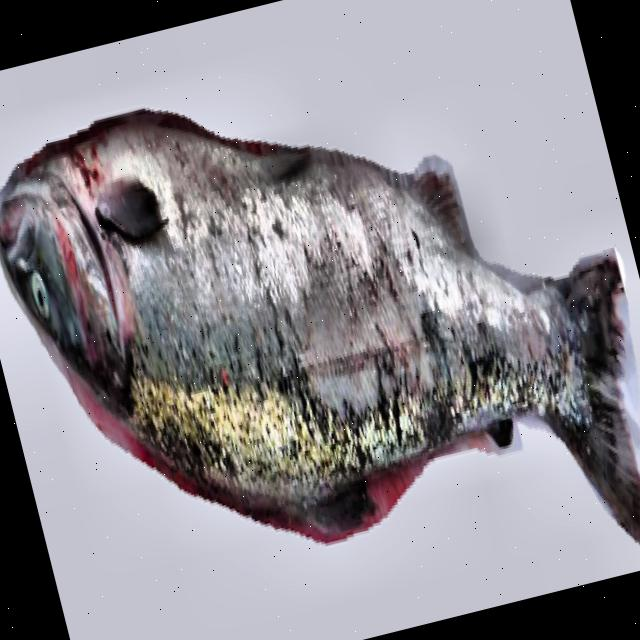mild_red: (26, 115, 640, 538)
